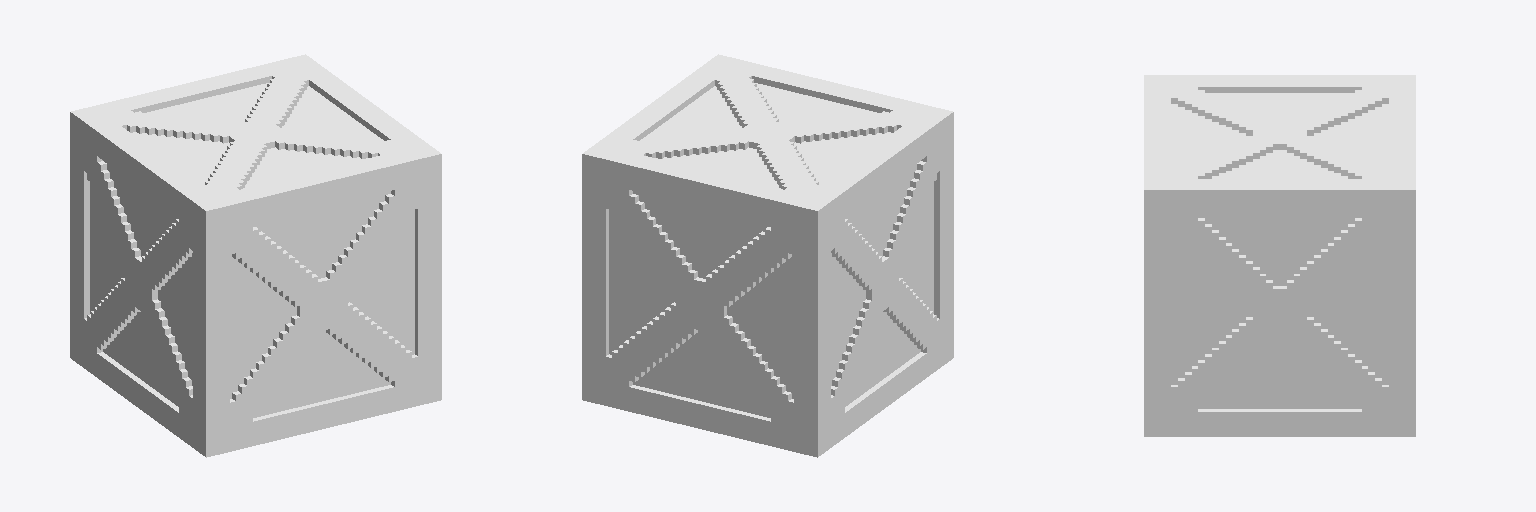
Rendered from others2-9.obj.
The picture shows the model from 3 angles: view 1: azimuth 30°, elevation 25°; view 2: azimuth 150°, elevation 25°; view 3: azimuth 270°, elevation 25°; orthographic projection.
Parts seen in each view (by area): view 1: object 1; view 2: object 1; view 3: object 1.
Part boxes in pixels (left/top/right/bottom): object 1: left=70, top=54, right=441, bottom=457; object 1: left=582, top=54, right=953, bottom=457; object 1: left=1144, top=75, right=1415, bottom=436.
Bounding box in the file's own units: 4 × 4 × 4.